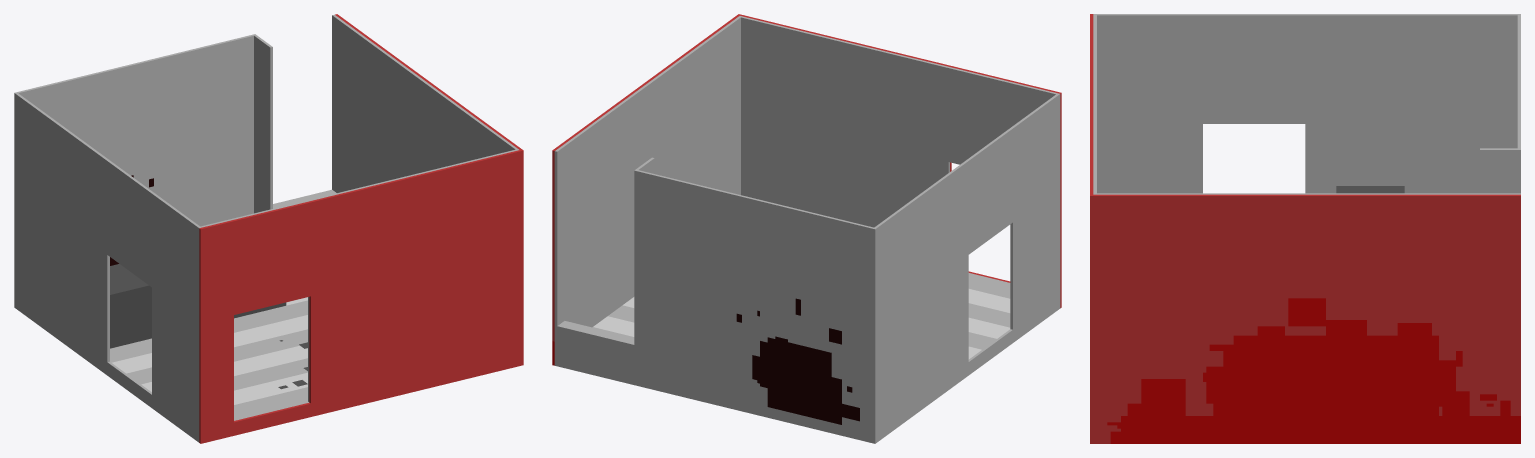
File: 4x2 first (1)-7.obj
3 views of the same model, side by side, from view 1: azimuth 30°, elevation 25°; view 2: azimuth 150°, elevation 25°; view 3: azimuth 270°, elevation 25° (orthographic). The views are drawn at different scales.
Visible parts, largest first — view 1: 4x2 first (1)-7; view 2: 4x2 first (1)-7; view 3: 4x2 first (1)-7.
Boxes of the visible parts, x1,y1,x2,y2 form: 4x2 first (1)-7: [14, 14, 523, 443]; 4x2 first (1)-7: [552, 14, 1061, 443]; 4x2 first (1)-7: [1090, 14, 1520, 443].
Size of the model in its own units: 126 by 80 by 126.
Materials: 1 (1 with a texture image).
